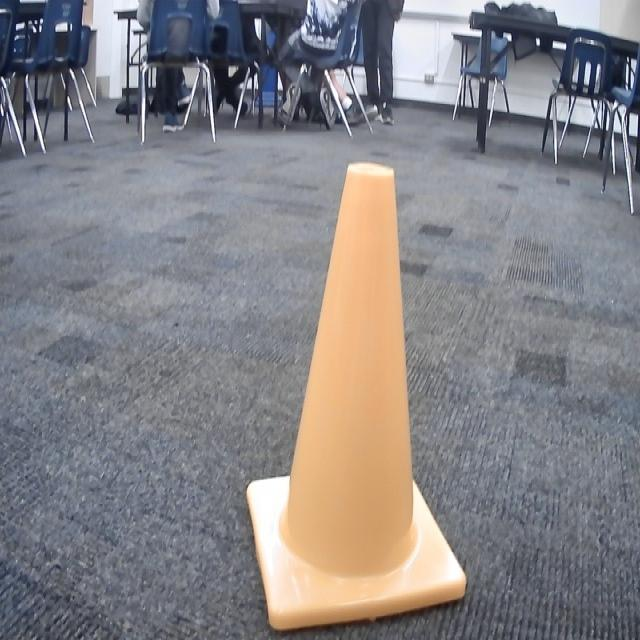cone: (244, 156, 470, 634)
